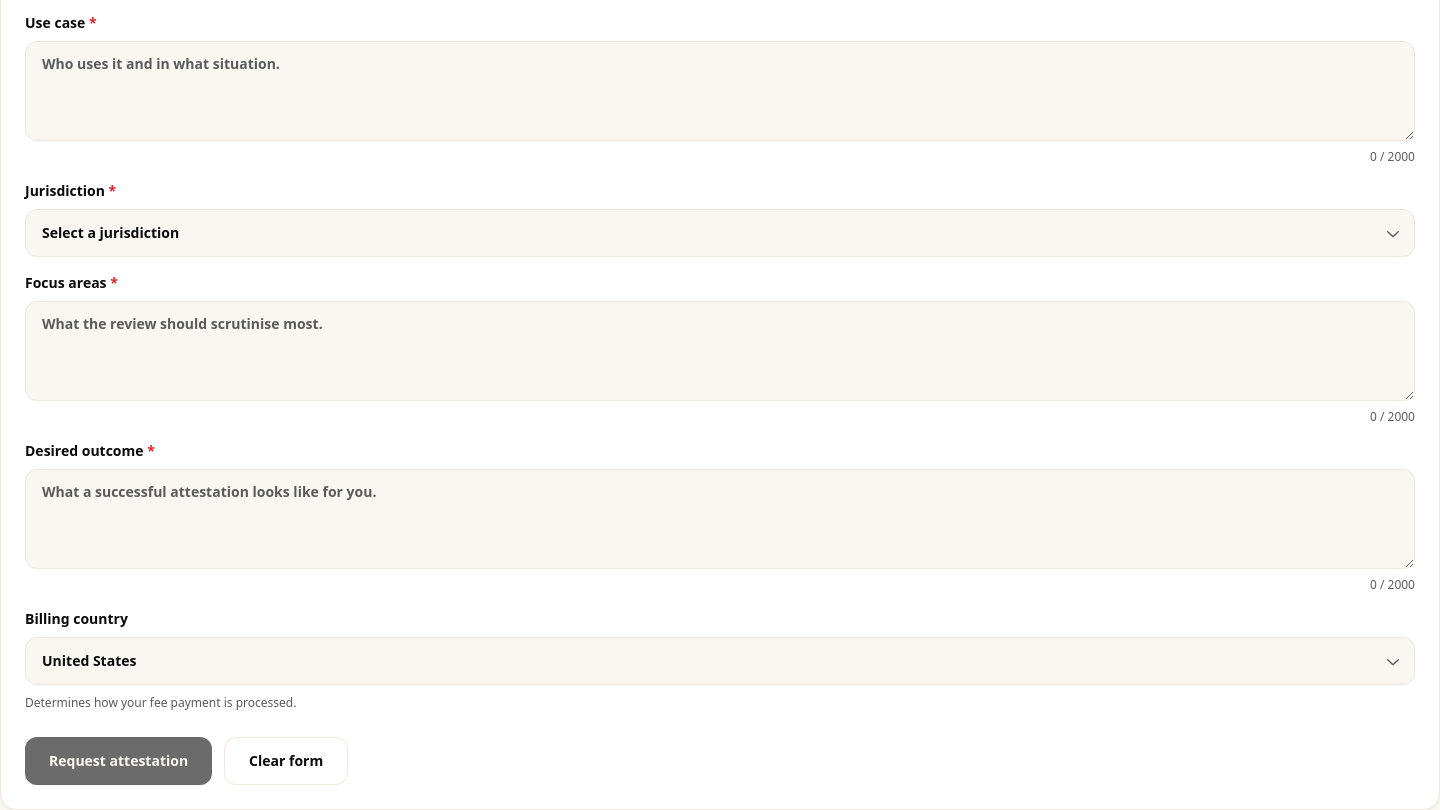
Test case: AttestationRequestForm brief limits › caps Desired outcome at 2,000 characters with a live counter
(page scrolled)
Type "Hello" into the text box labelled "Desired outcome *". click: (720,519)
box: [25,469,1415,569]
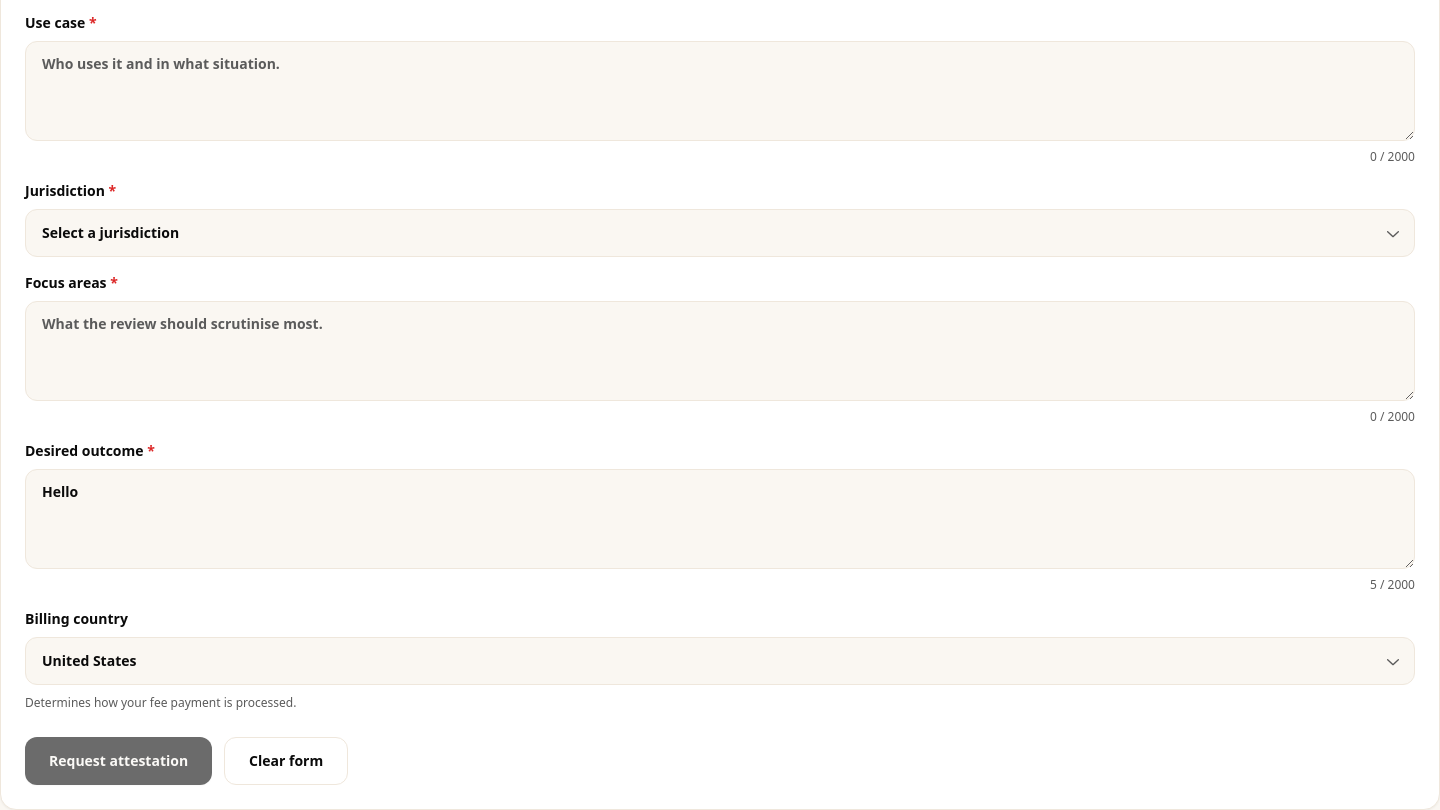
Now the text "5 / 2000" is shown, box [1370,576,1415,593]
